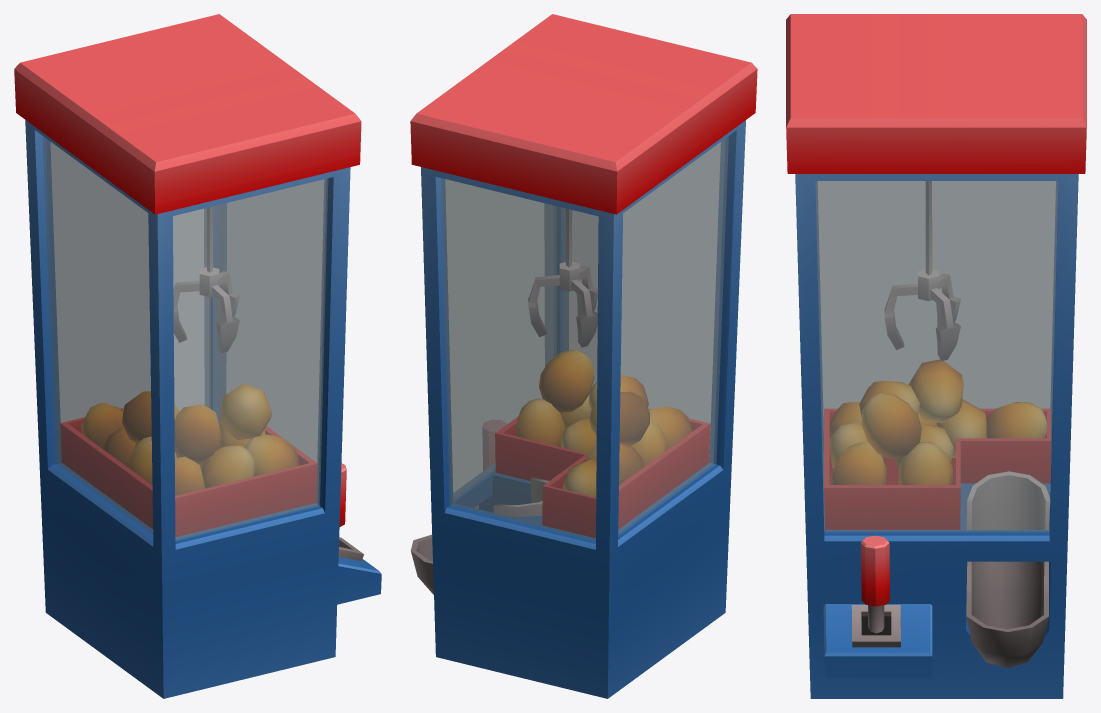
The model's file is GrabberGame_01.fbx.
3 views of the same model, side by side, from view 1: azimuth 30°, elevation 25°; view 2: azimuth 150°, elevation 25°; view 3: azimuth 270°, elevation 25° (orthographic). The views are drawn at different scales.
Parts seen in each view (by area): view 1: polySurface22, polySurface25, polySurface20, polySurface21, polySurface7, polySurface6, polySurface10, polySurface24, polySurface15, polySurface9, polySurface19, polySurface11 (+2 smaller); view 2: polySurface22, polySurface25, polySurface21, polySurface5, polySurface24, polySurface9, polySurface27, polySurface10, polySurface8, polySurface11, polySurface19, polySurface23 (+3 smaller); view 3: polySurface22, polySurface25, polySurface21, polySurface24, polySurface3, polySurface5, polySurface10, polySurface6, polySurface23, polySurface26, polySurface19, polySurface7 (+5 smaller).
Part boxes in pixels (box(x1,y1,x2,y2)): polySurface22: box(14, 14, 381, 698); polySurface25: box(43, 136, 327, 540); polySurface20: box(175, 404, 221, 463); polySurface21: box(220, 384, 271, 439); polySurface7: box(201, 445, 255, 487); polySurface6: box(245, 434, 298, 476); polySurface10: box(81, 403, 123, 449); polySurface24: box(122, 391, 178, 442); polySurface15: box(212, 285, 239, 352); polySurface9: box(175, 457, 204, 495); polySurface19: box(200, 206, 218, 296); polySurface11: box(129, 437, 176, 484); polySurface22: box(410, 14, 757, 698); polySurface25: box(441, 136, 728, 541); polySurface21: box(539, 350, 593, 412); polySurface5: box(515, 398, 565, 446); polySurface24: box(590, 392, 649, 445); polySurface9: box(649, 406, 691, 448); polySurface27: box(571, 279, 597, 347); polySurface10: box(563, 459, 596, 496); polySurface8: box(561, 419, 596, 453); polySurface11: box(629, 420, 667, 466); polySurface19: box(560, 209, 579, 291); polySurface23: box(586, 444, 643, 484); polySurface22: box(786, 14, 1086, 698); polySurface25: box(815, 181, 1058, 532); polySurface21: box(862, 393, 921, 458); polySurface24: box(908, 359, 963, 422); polySurface3: box(860, 535, 889, 633); polySurface5: box(899, 442, 952, 484); polySurface10: box(986, 402, 1046, 437); polySurface6: box(830, 442, 886, 484); polySurface23: box(937, 400, 986, 457); polySurface26: box(931, 288, 960, 360); polySurface19: box(918, 181, 938, 300); polySurface7: box(829, 422, 885, 468).
Bounding box in the file's own units: 3.13 × 6.7 × 3.11.
